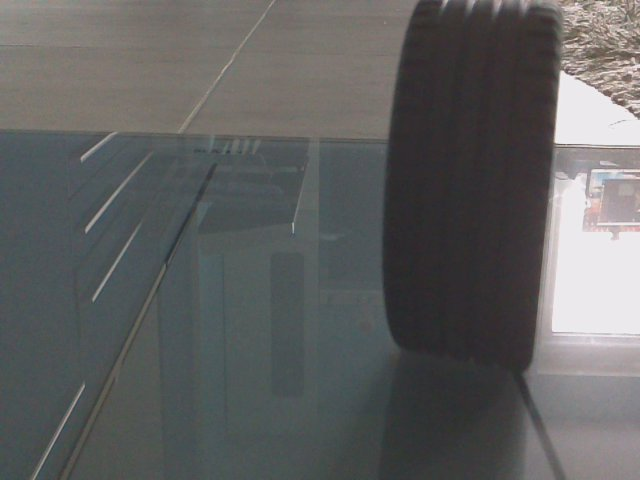Rad: (379, 2, 569, 381)
